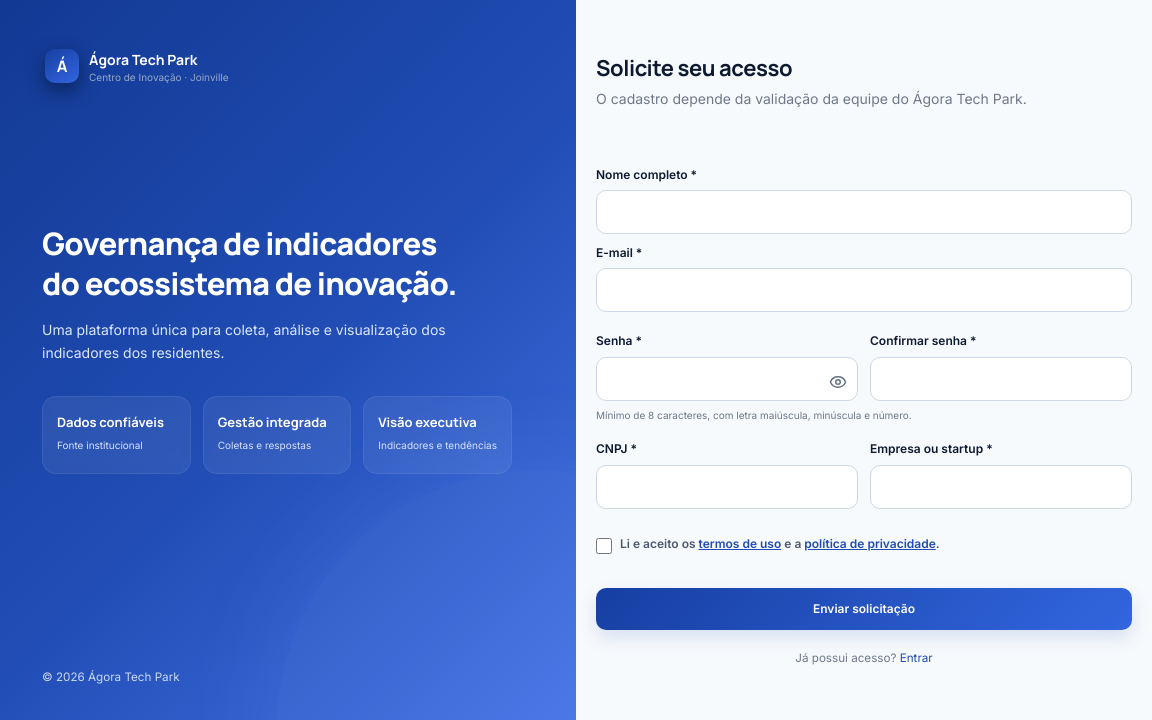
Test case: páginas públicas de autenticação › orienta o reenvio quando a solicitação foi criada mas o e-mail falhou
Type "Pessoa Teste" into the field labelled "Nome completo *" at (864, 212), box [596,190,1132,234]
Type "pessoa@test.com" into the field labelled "E-mail *" at (864, 290), box [596,268,1132,312]
Type "Senha123" into the password field labelled "Senha *" at (727, 379), box [596,357,858,401]
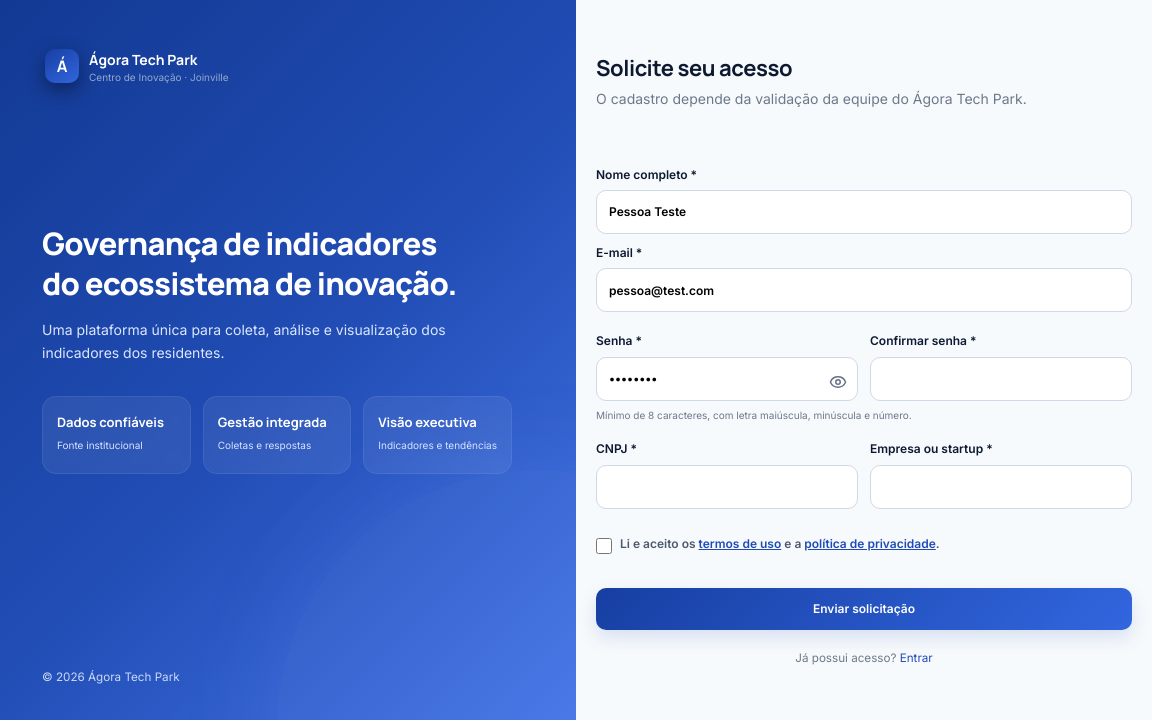
Type "Senha123" into the password field labelled "Confirmar senha *" at (1001, 379), box [870,357,1132,401]
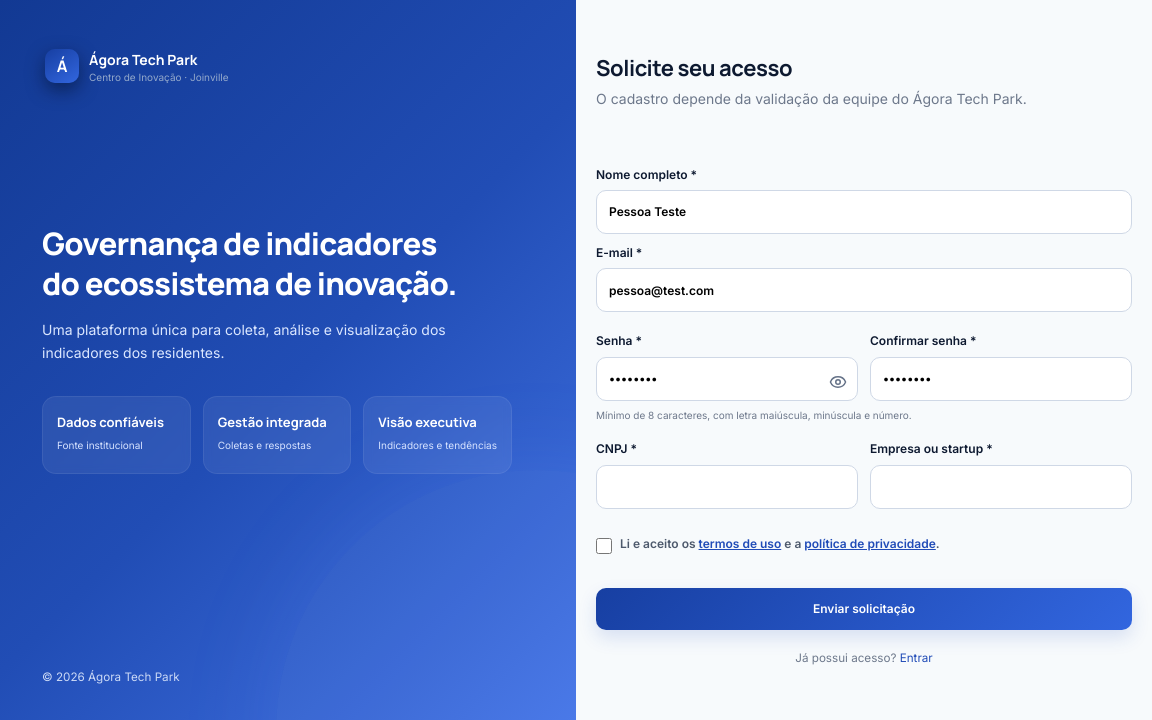
Type "11222333000181" into the field labelled "CNPJ *" at (727, 487), box [596,465,858,509]
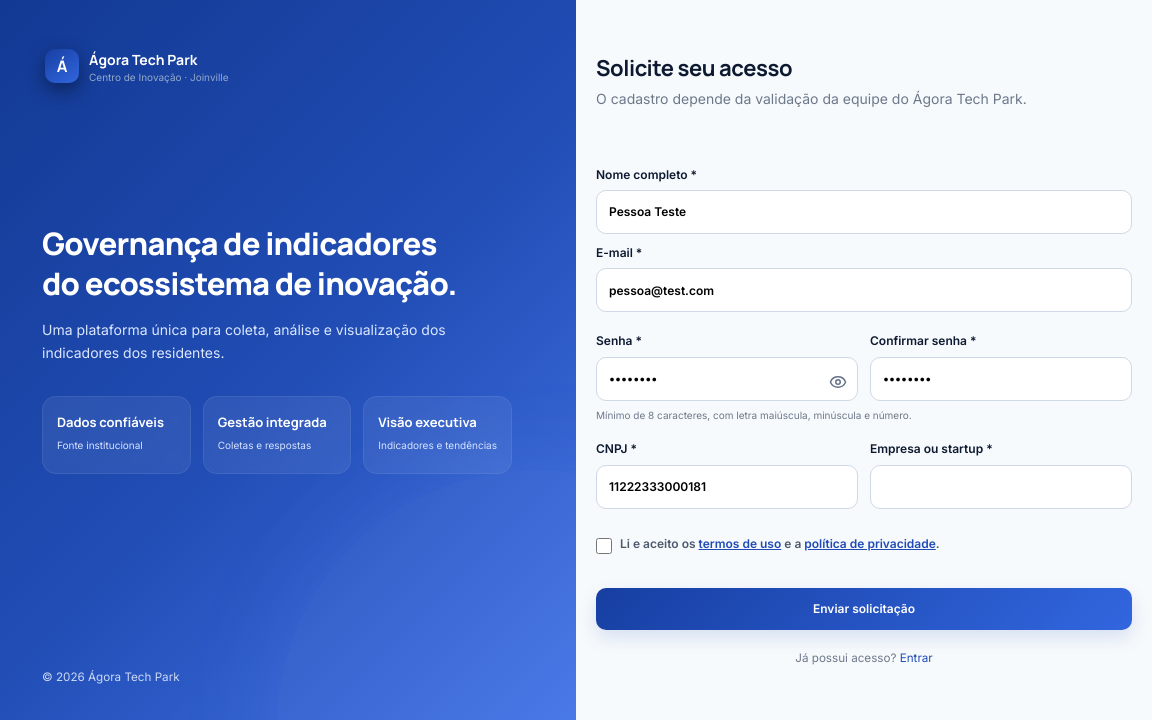
Type "Startup" into the field labelled "Empresa ou startup *" at (1001, 487), box [870,465,1132,509]
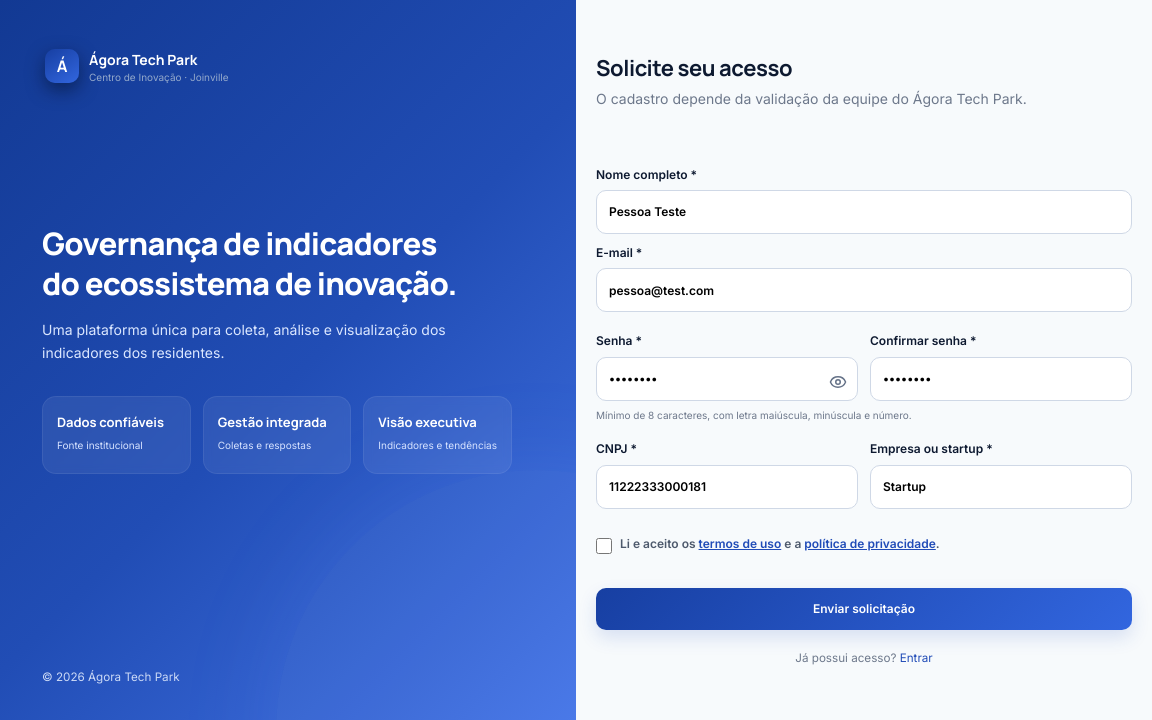
Click the checkbox labelled "Li e aceito os termos de uso e a política de privacidade ." at (604, 546), box [596,538,612,554]
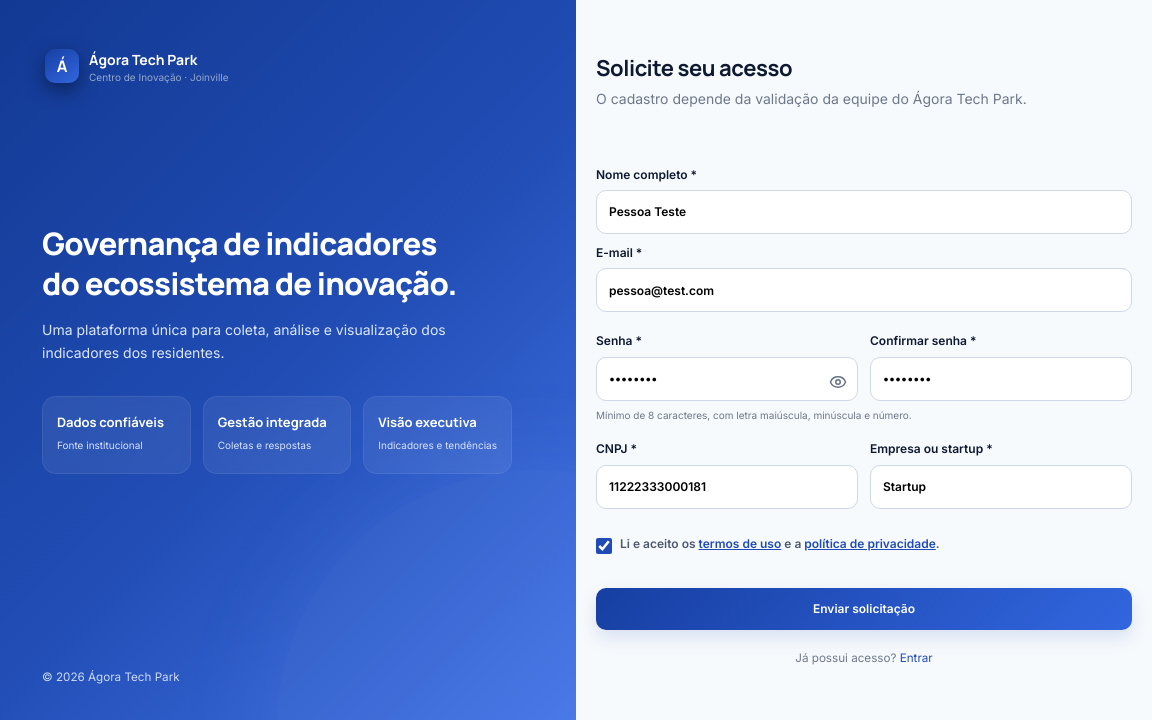
Click the button "Enviar solicitação" at (864, 609), box [596,588,1132,630]
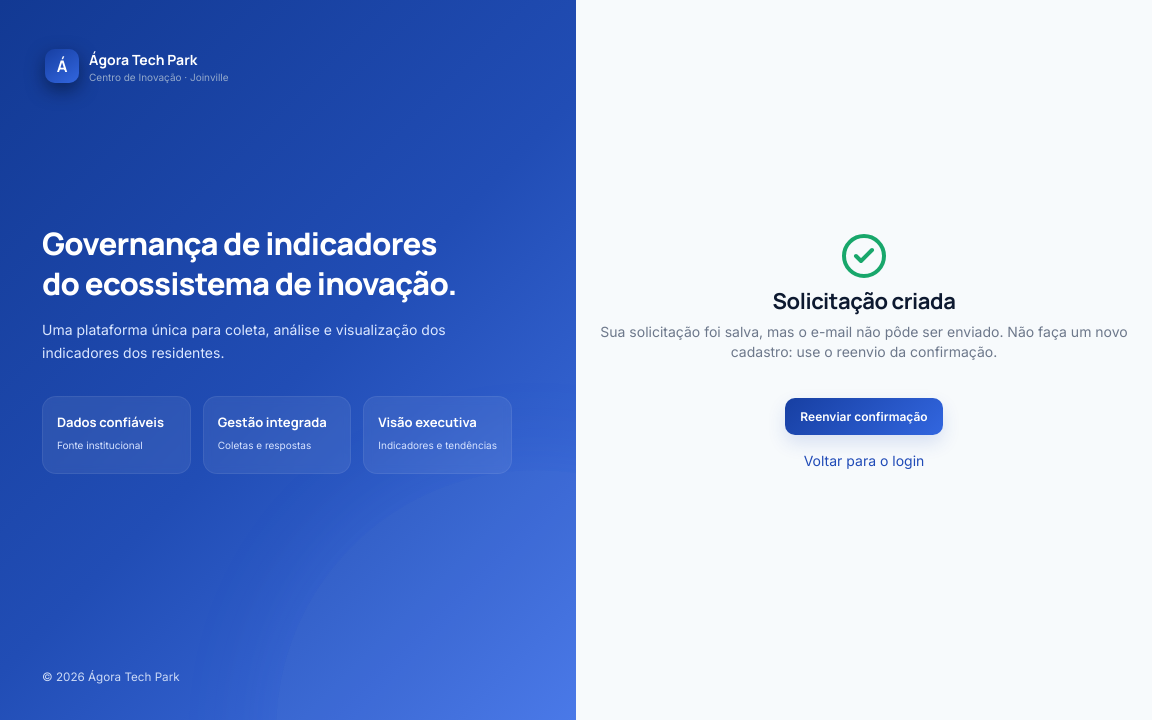
Expected: the heading "Solicitação criada" is shown, [773,286,956,316]
Expected: the text "não faça um novo cadastro" is shown, [600,322,1128,360]
Expected: the button "Reenviar confirmação" is shown, [785,398,943,436]
